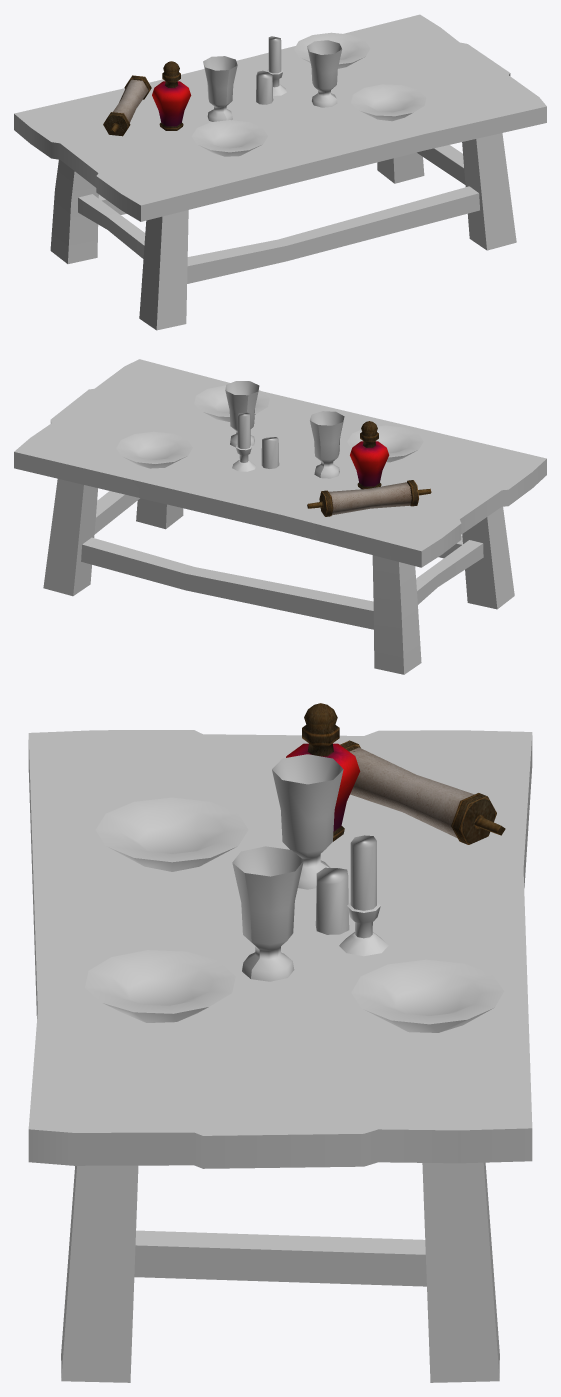
The model's file is Table_02.fbx.
3 views of the same model, one above another, from view 1: azimuth 30°, elevation 25°; view 2: azimuth 150°, elevation 25°; view 3: azimuth 270°, elevation 25° (orthographic). The views are drawn at different scales.
Parts seen in each view (by area): view 1: Table_02; view 2: Table_02; view 3: Table_02.
Boxes of the visible parts, box(x1,y1,x2,y2) form: Table_02: box(14, 14, 546, 330); Table_02: box(14, 359, 546, 674); Table_02: box(28, 703, 532, 1382).
Size of the model in its own units: 2.49 by 1.17 by 1.31.
